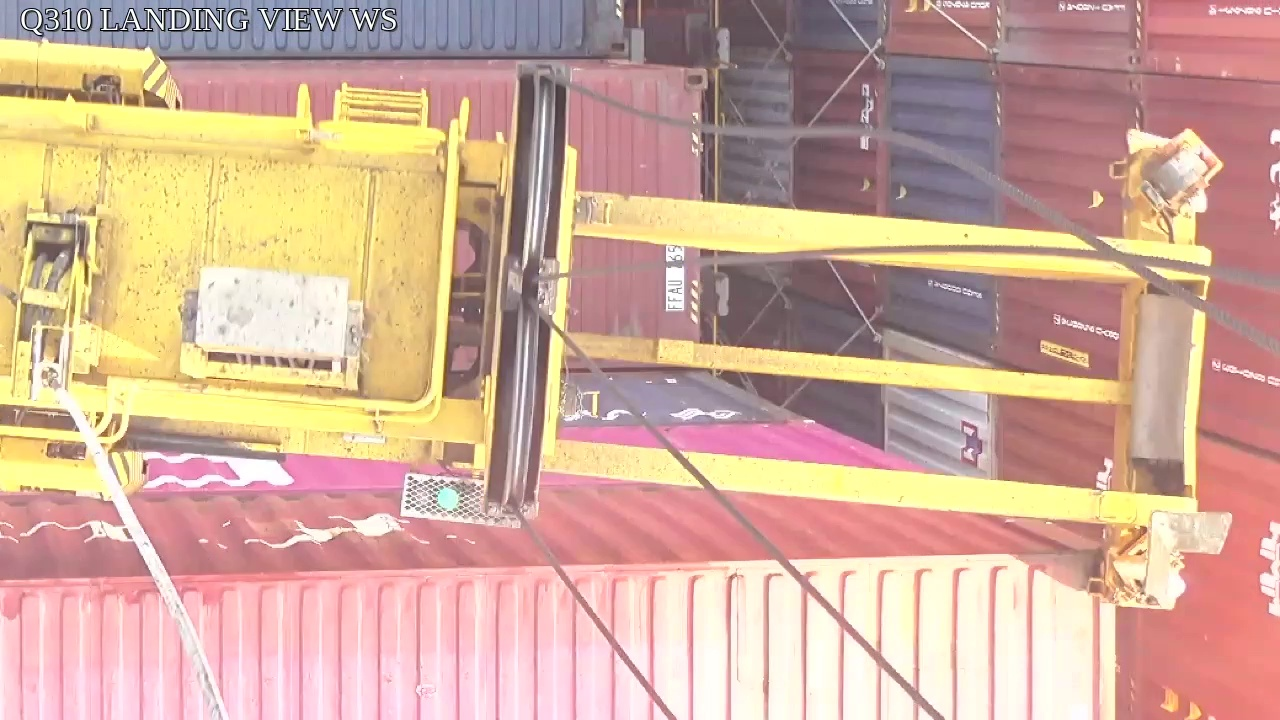right: (486, 59, 578, 517)
